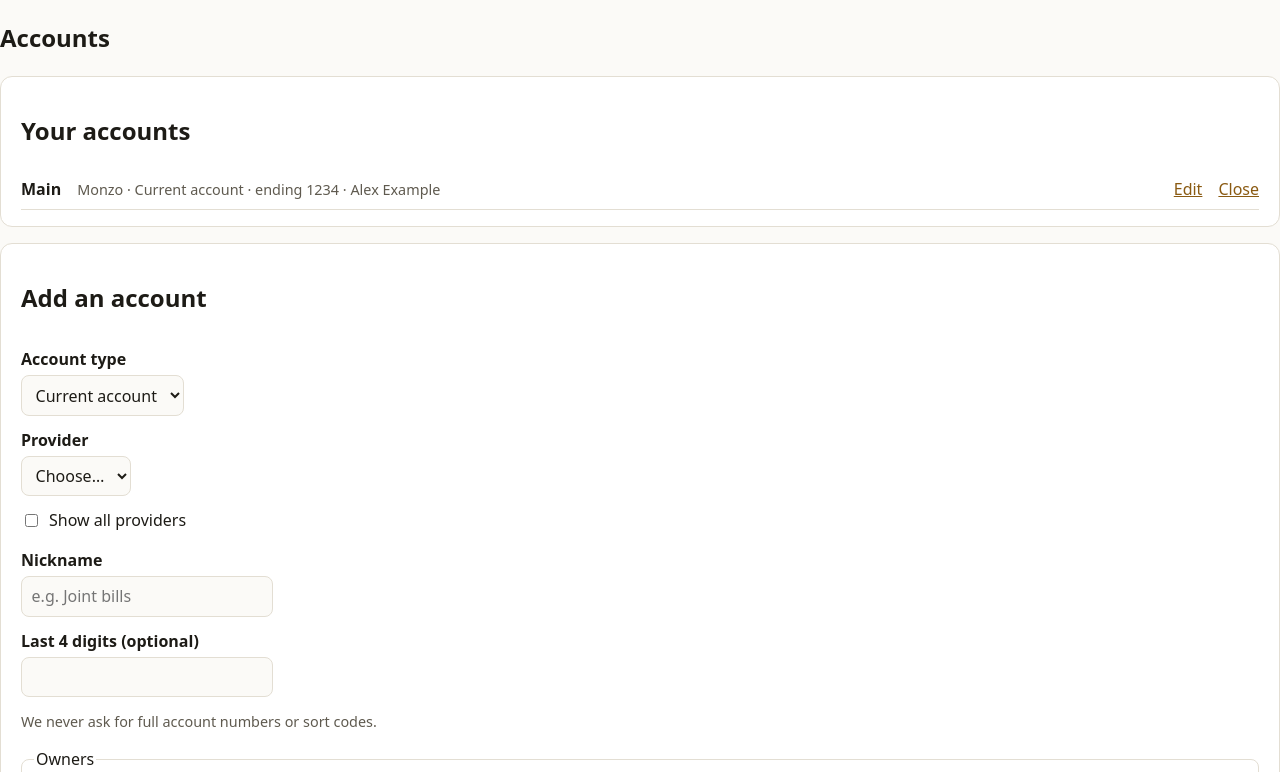
Test case: closes an account and shows it under Closed, then reopens it
Expected: the text "Main" is shown, [21,177,61,201]
Expected: the heading "Closed" is not shown
Click the button with aria-label "Close Main" at (1239, 189), box [1218,177,1259,201]
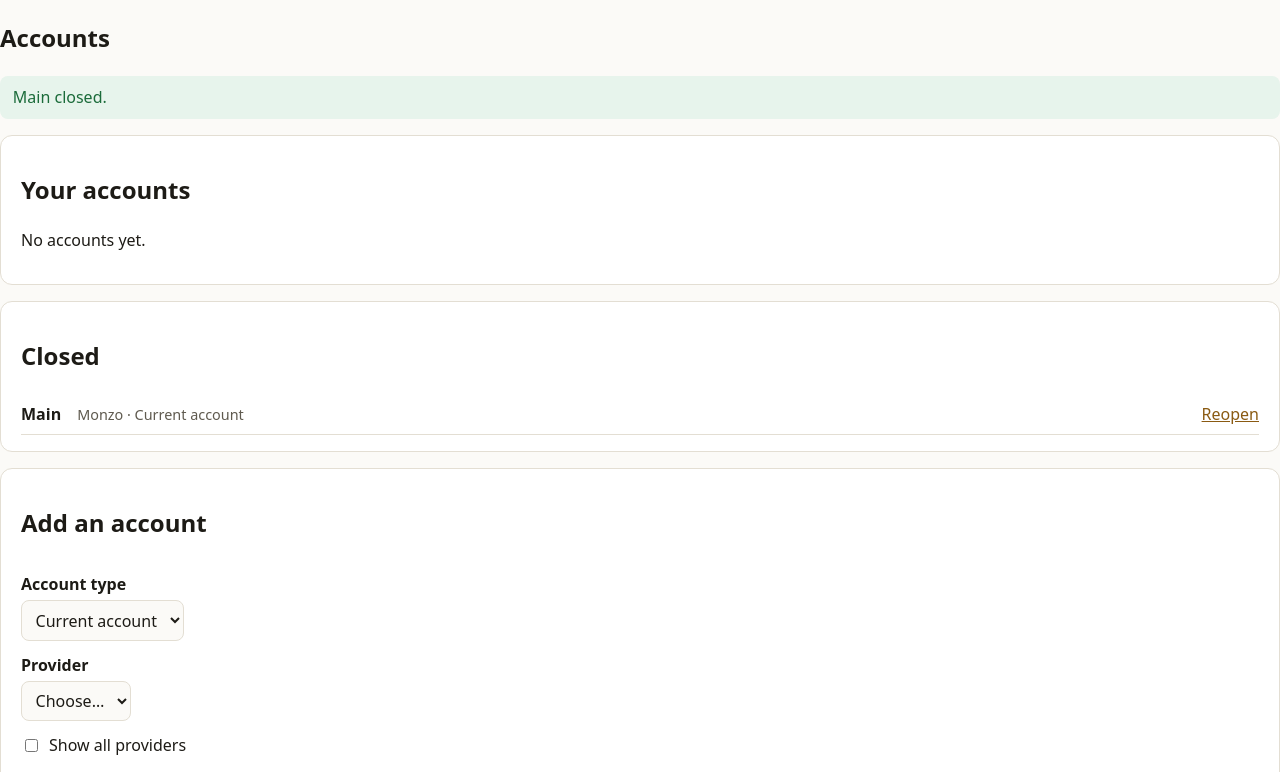
Expected: the text "Main" is shown, [21,402,61,426]
Click the button with aria-label "Reopen Main" at (1230, 414), box [1202,402,1259,426]
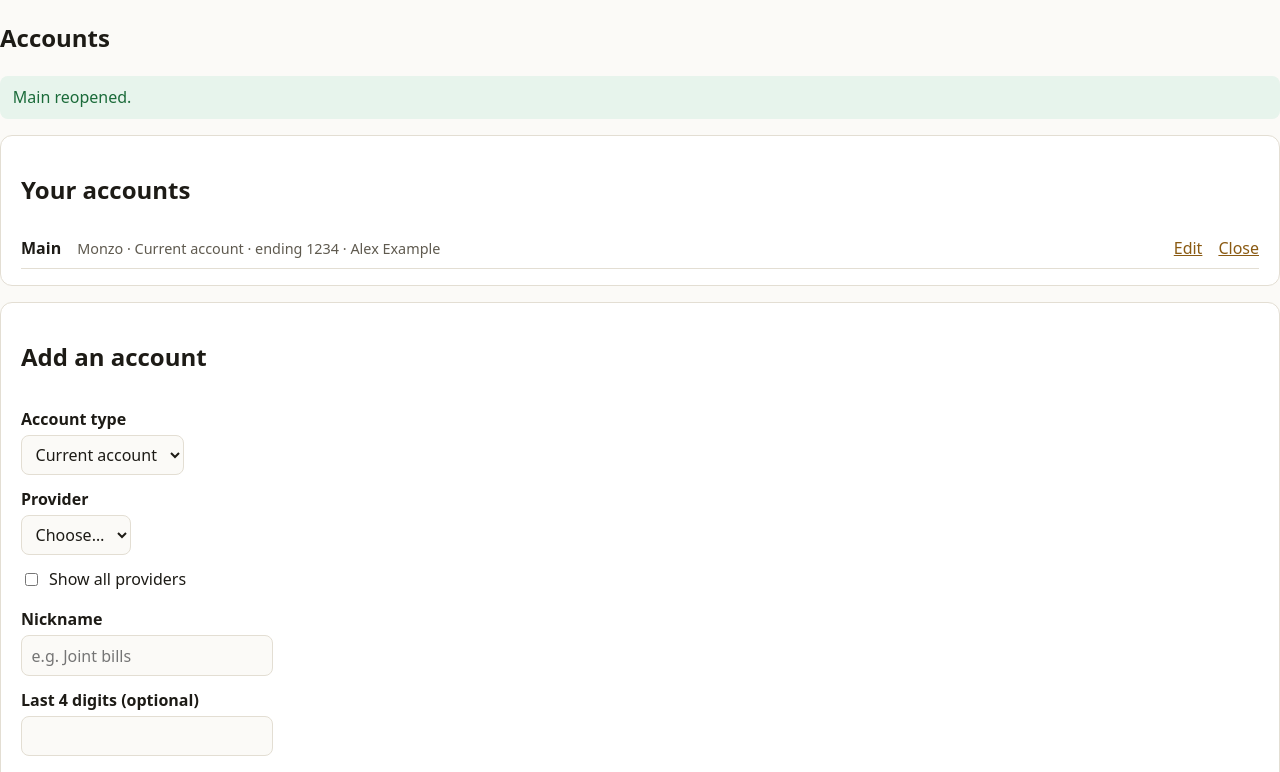
Expected: the message "closed" is gone
